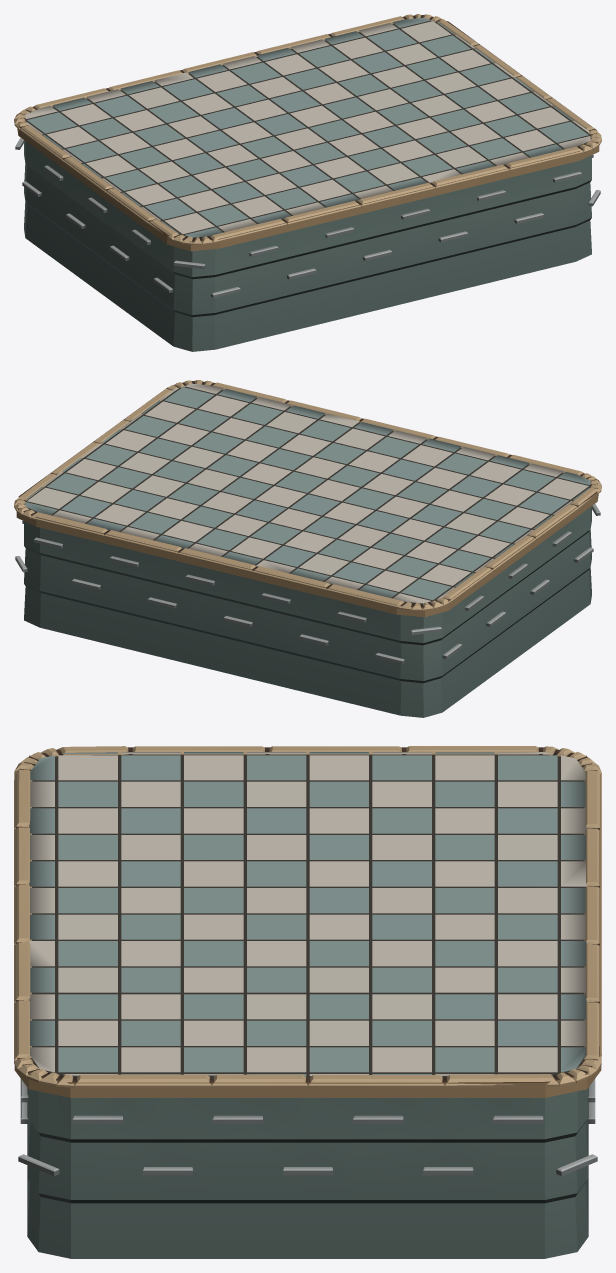
File: plateau_cuisine.glb
The picture shows the model from 3 angles, top to bottom: view 1: azimuth 30°, elevation 25°; view 2: azimuth 150°, elevation 25°; view 3: azimuth 270°, elevation 25°; orthographic projection. The views are drawn at different scales.
Parts seen in each view (by area): view 1: plateau_cuisine; view 2: plateau_cuisine; view 3: plateau_cuisine.
Boxes of the visible parts, left/top/right/bottom form: plateau_cuisine: left=14, top=14, right=601, bottom=351; plateau_cuisine: left=14, top=380, right=601, bottom=717; plateau_cuisine: left=14, top=746, right=601, bottom=1258.
Size of the model in its own units: 19.04 by 4.94 by 14.04.
